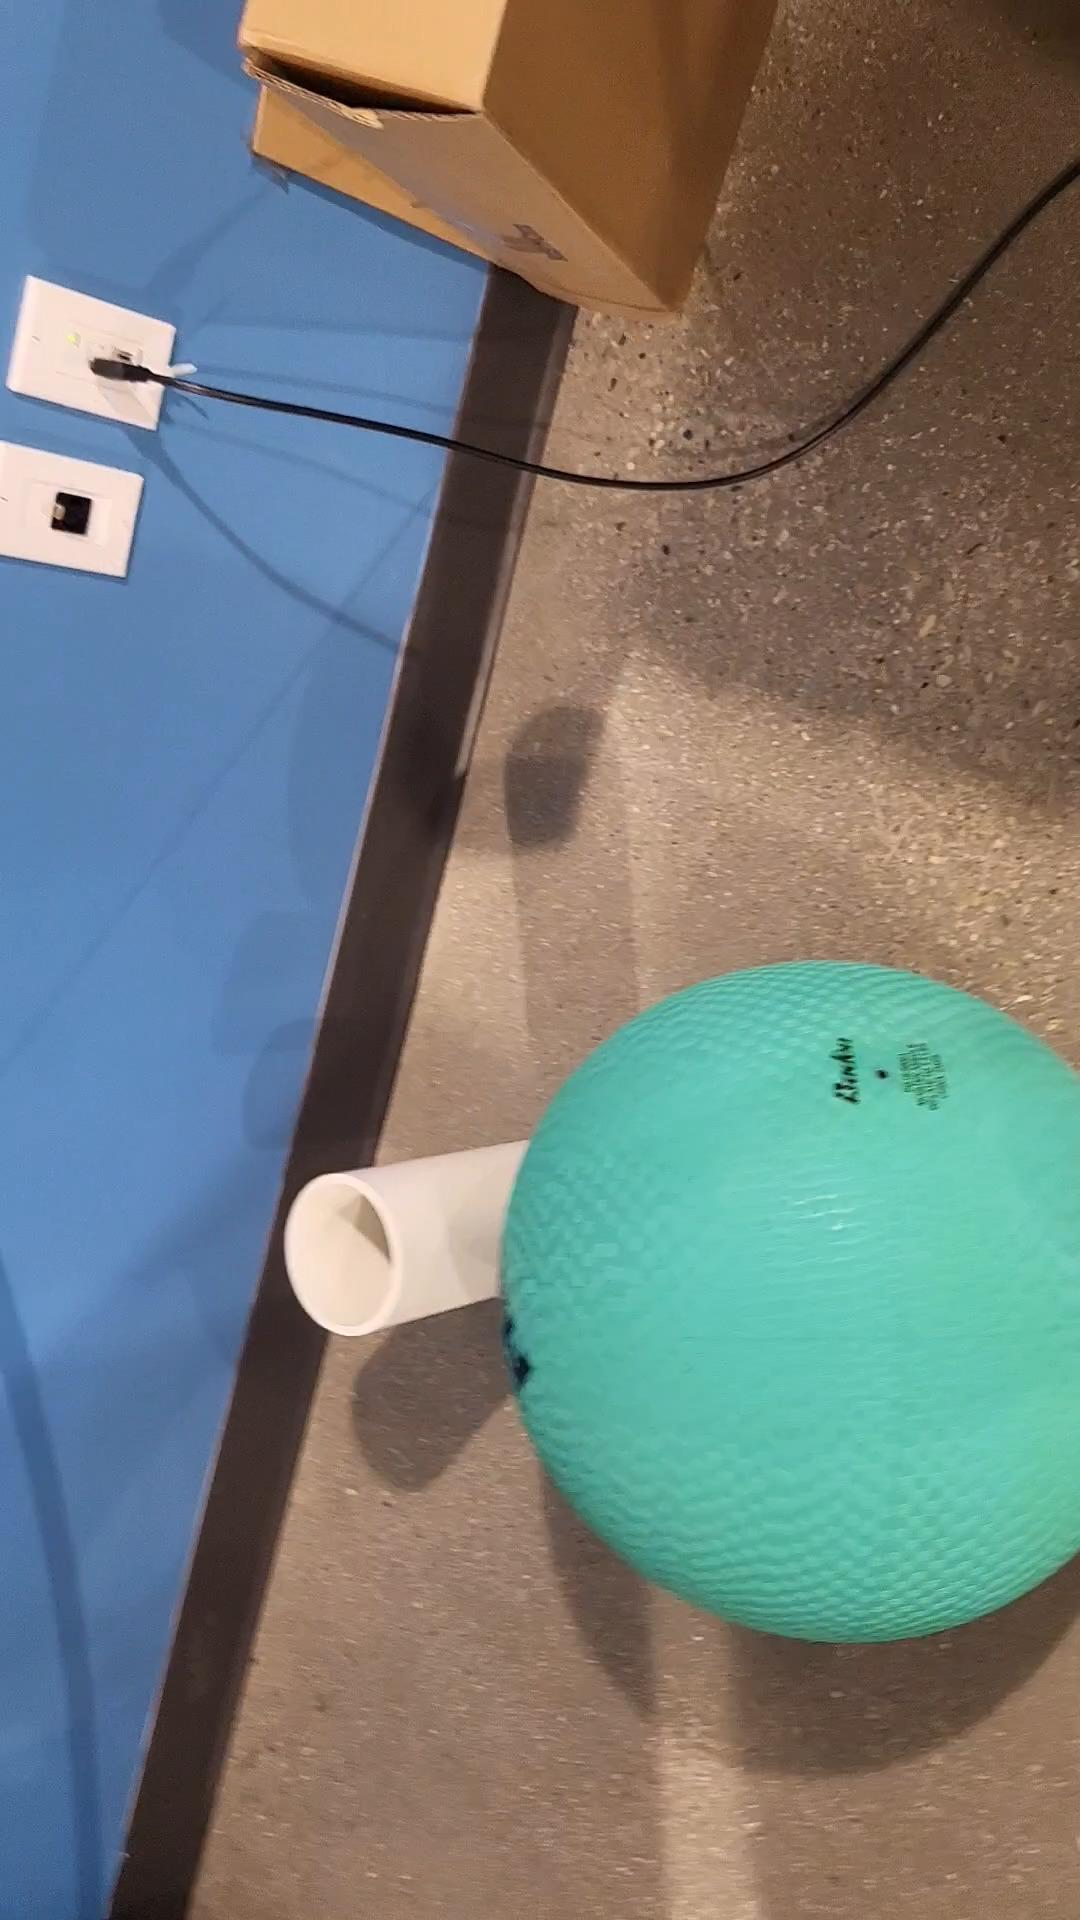algae: (500, 965, 1080, 1644)
coral: (287, 1139, 547, 1331)
